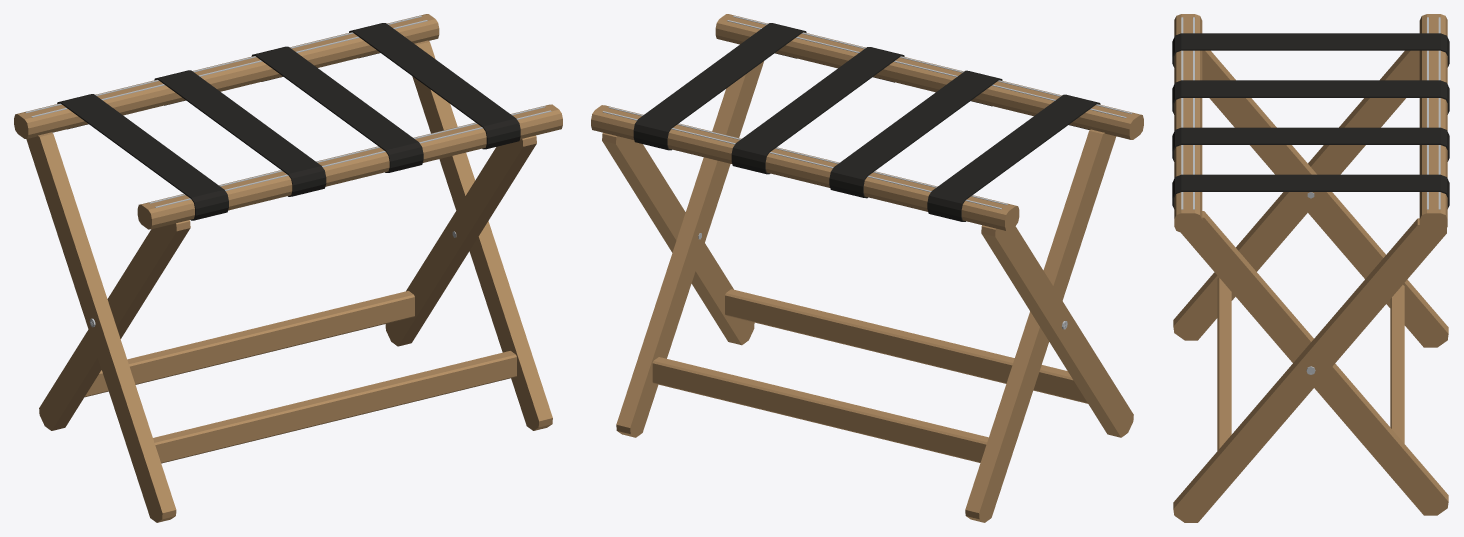
File: NEW571_luggage_rack_LOD2.glb
3 renders of one model, left to right at view 1: azimuth 30°, elevation 25°; view 2: azimuth 150°, elevation 25°; view 3: azimuth 270°, elevation 25°, orthographic.
Visible parts, largest first — view 1: NEW571_Complete_Luggage_Rack_LOD2; view 2: NEW571_Complete_Luggage_Rack_LOD2; view 3: NEW571_Complete_Luggage_Rack_LOD2.
Part boxes in pixels (left/top/right/bottom): NEW571_Complete_Luggage_Rack_LOD2: left=14, top=14, right=562, bottom=522; NEW571_Complete_Luggage_Rack_LOD2: left=591, top=14, right=1143, bottom=522; NEW571_Complete_Luggage_Rack_LOD2: left=1172, top=14, right=1449, bottom=522.
Bounding box in the file's own units: 0.655 × 0.485 × 0.385.
